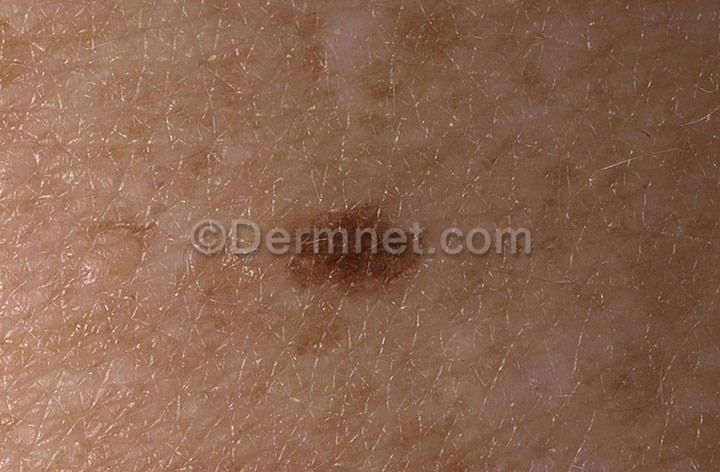Melasma: (283, 258, 436, 306), (296, 194, 400, 226), (289, 322, 353, 372)
